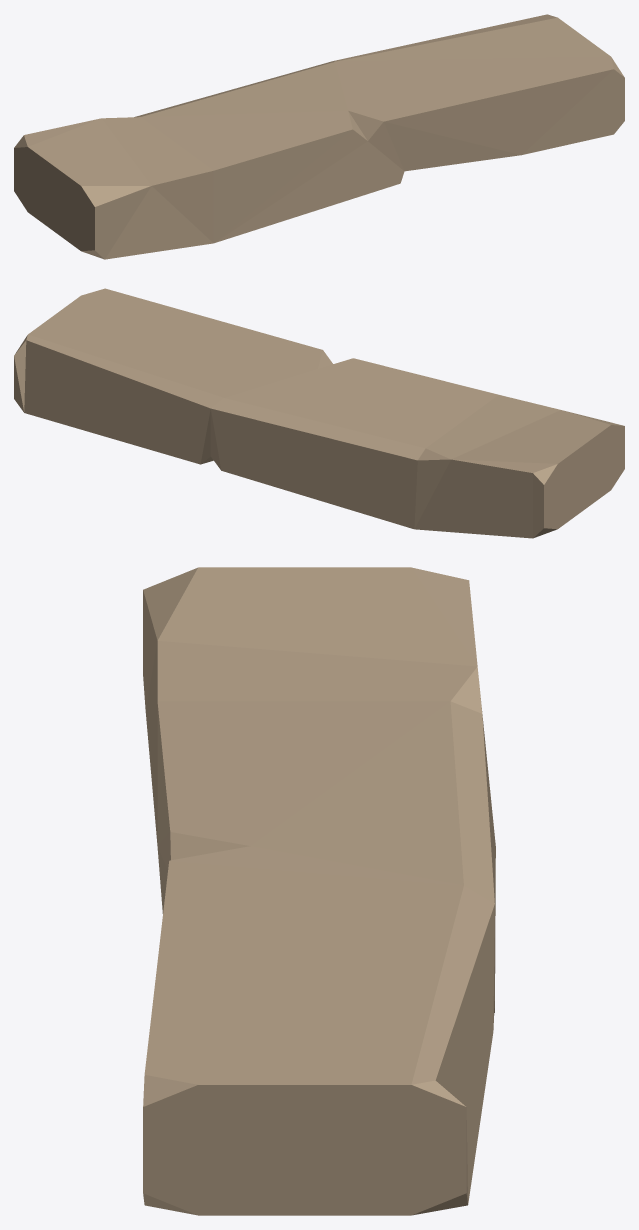
Rendered from Cube Block Long_1.fbx.
3 renders of one model, top to bottom at view 1: azimuth 30°, elevation 25°; view 2: azimuth 150°, elevation 25°; view 3: azimuth 270°, elevation 25°, orthographic. The views are drawn at different scales.
Parts seen in each view (by area): view 1: Cube Block Long_1; view 2: Cube Block Long_1; view 3: Cube Block Long_1.
Part boxes in pixels (bbox=[...]): Cube Block Long_1: bbox=[14, 14, 624, 259]; Cube Block Long_1: bbox=[14, 288, 624, 538]; Cube Block Long_1: bbox=[143, 567, 495, 1215].
Bounding box in the file's own units: 2.62 × 0.3775 × 0.7554.
